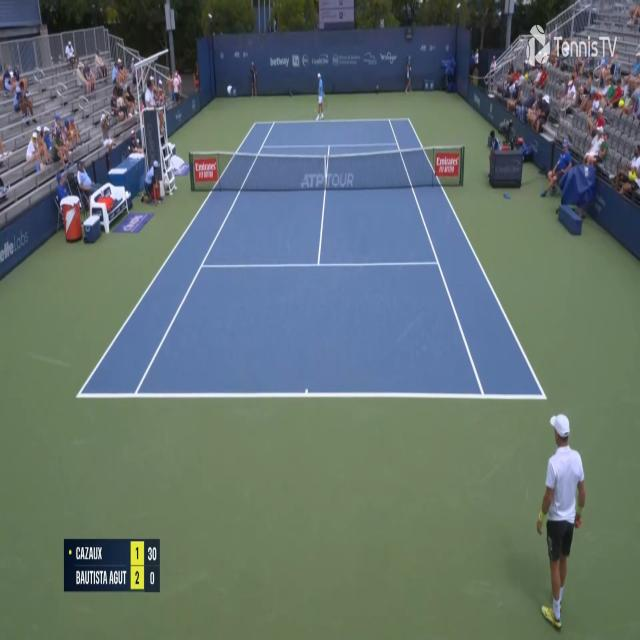tennis-player: (534, 410, 587, 632), (314, 70, 326, 122)
